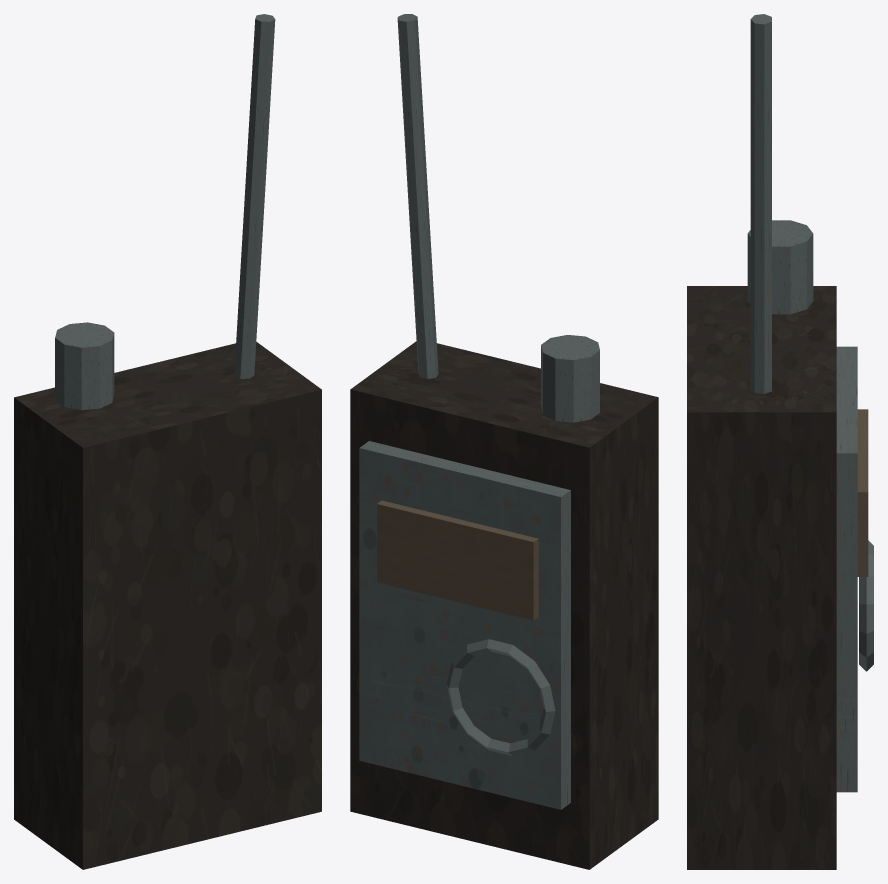
Rendered from ax-com-001_handheld_radio__off.obj.
3 renders of one model, left to right at view 1: azimuth 30°, elevation 25°; view 2: azimuth 150°, elevation 25°; view 3: azimuth 270°, elevation 25°, orthographic. The views are drawn at different scales.
Parts seen in each view (by area): view 1: ax-com-001_handheld_radio__off; view 2: ax-com-001_handheld_radio__off; view 3: ax-com-001_handheld_radio__off.
Part boxes in pixels (left/top/right/bottom): ax-com-001_handheld_radio__off: left=14, top=14, right=321, bottom=869; ax-com-001_handheld_radio__off: left=350, top=14, right=658, bottom=869; ax-com-001_handheld_radio__off: left=687, top=14, right=873, bottom=869.
Size of the model in its own units: 0.1163 by 0.3599 by 0.0727.
3 materials, 3 textured.
